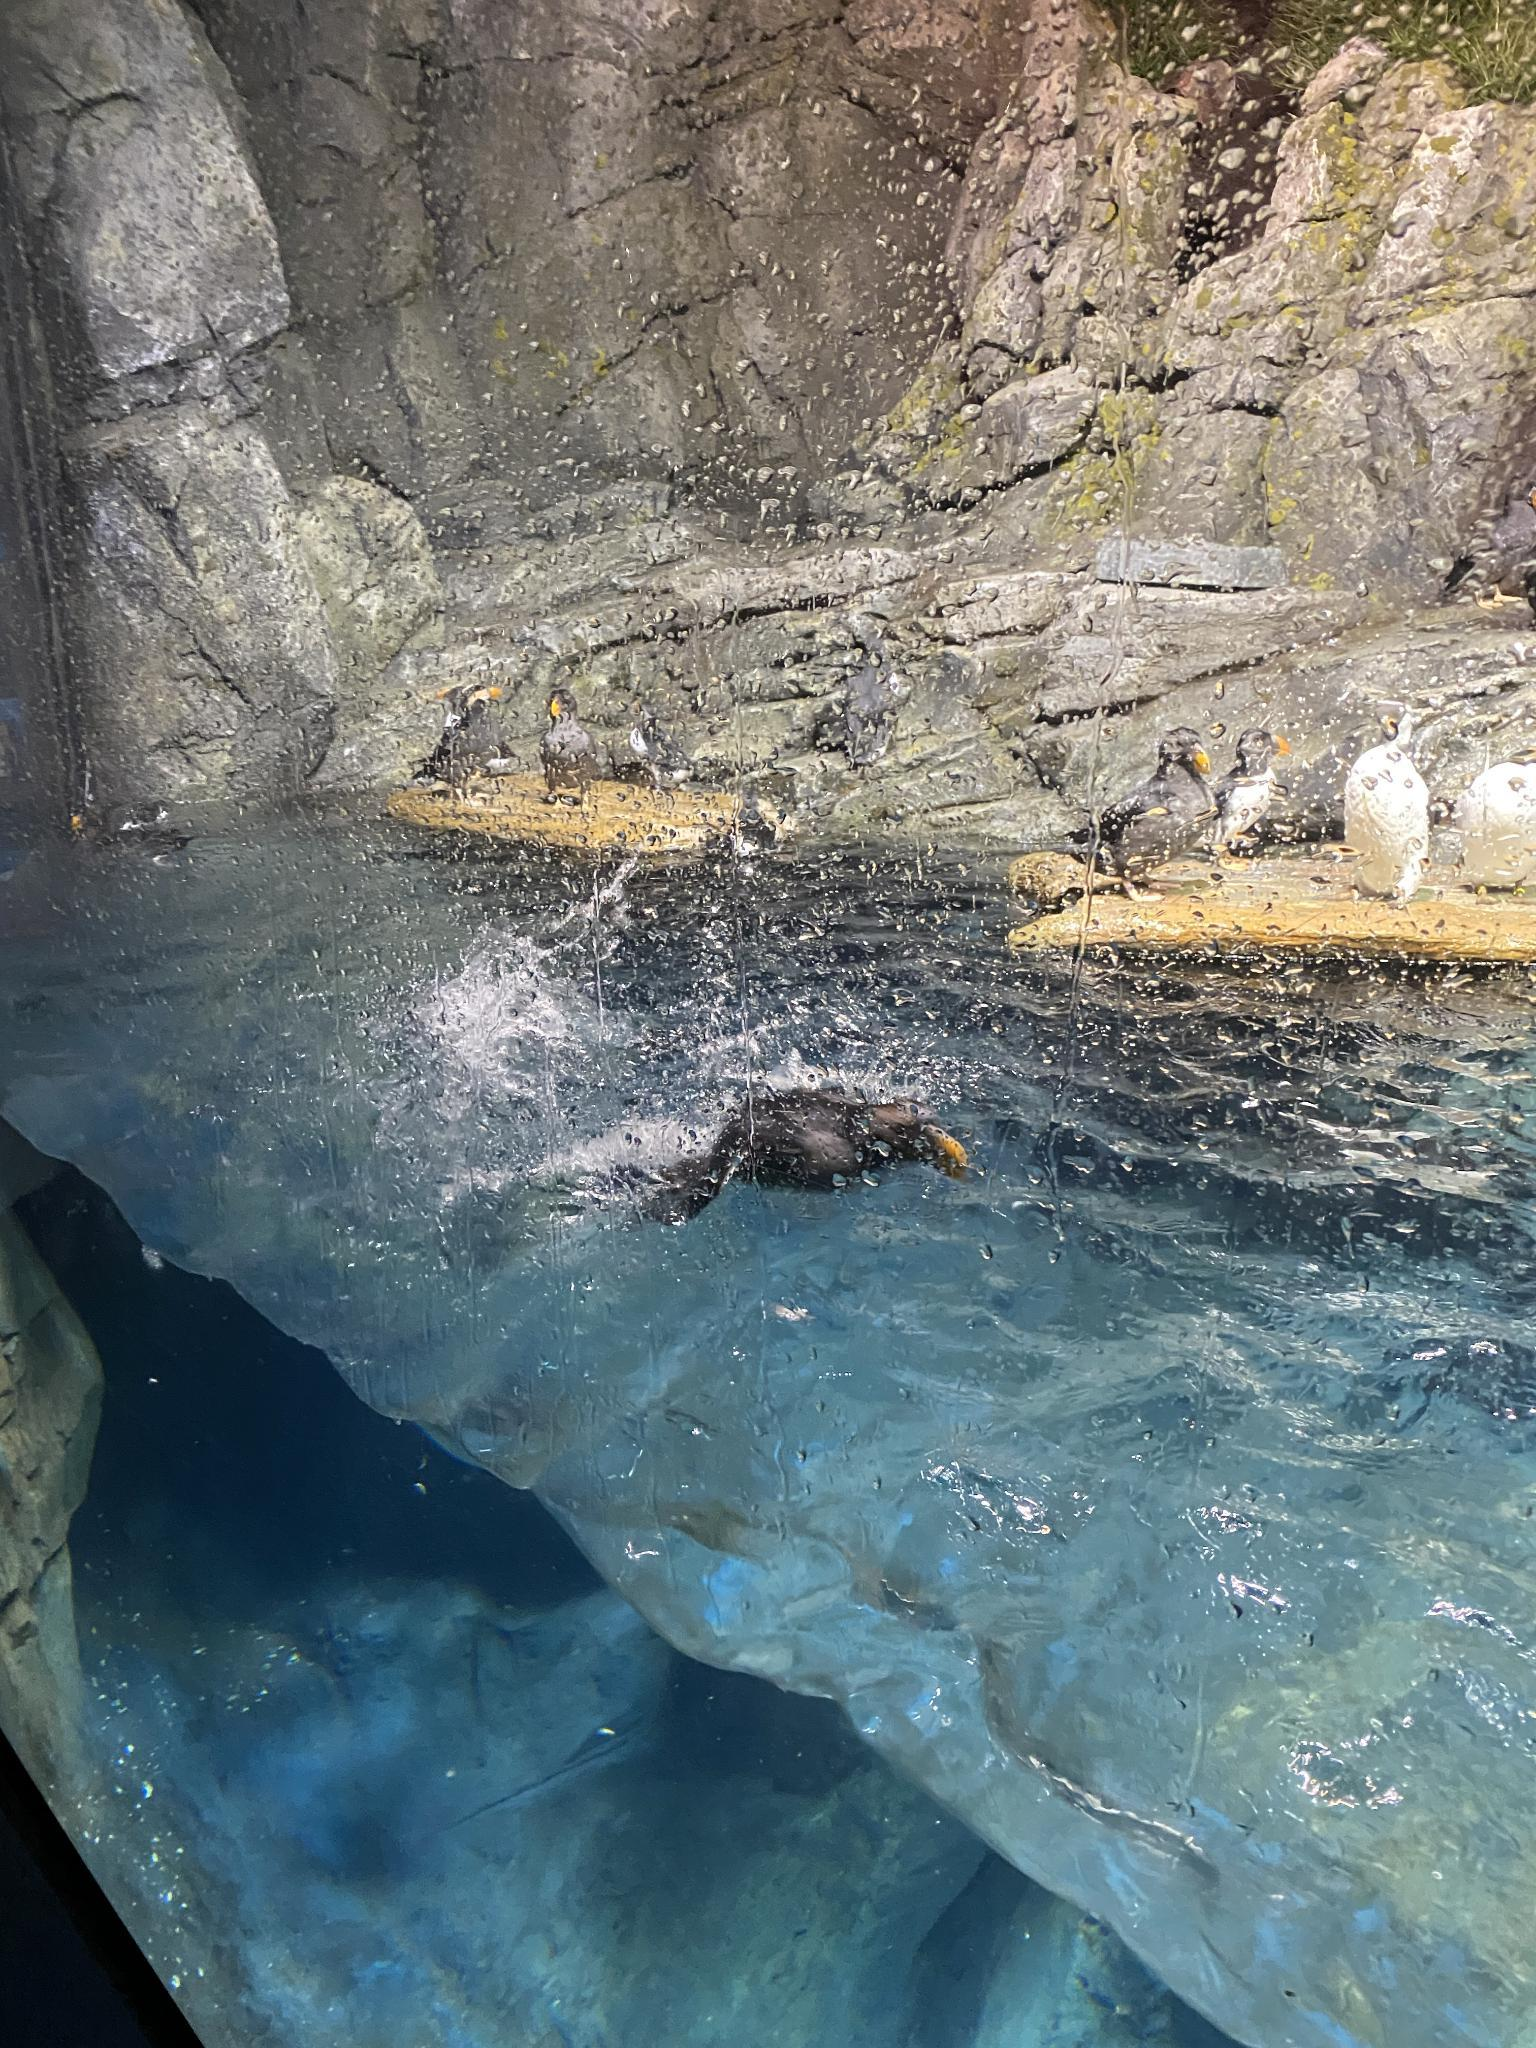puffin: (645, 1089, 971, 1222), (1066, 729, 1221, 906), (1347, 710, 1431, 903), (1194, 726, 1289, 858), (411, 679, 503, 793), (1463, 764, 1534, 900), (541, 692, 599, 805), (63, 798, 171, 842), (632, 714, 691, 789)
